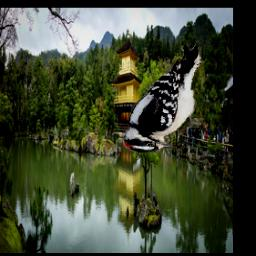Woodpecker: (123, 43, 201, 152)
